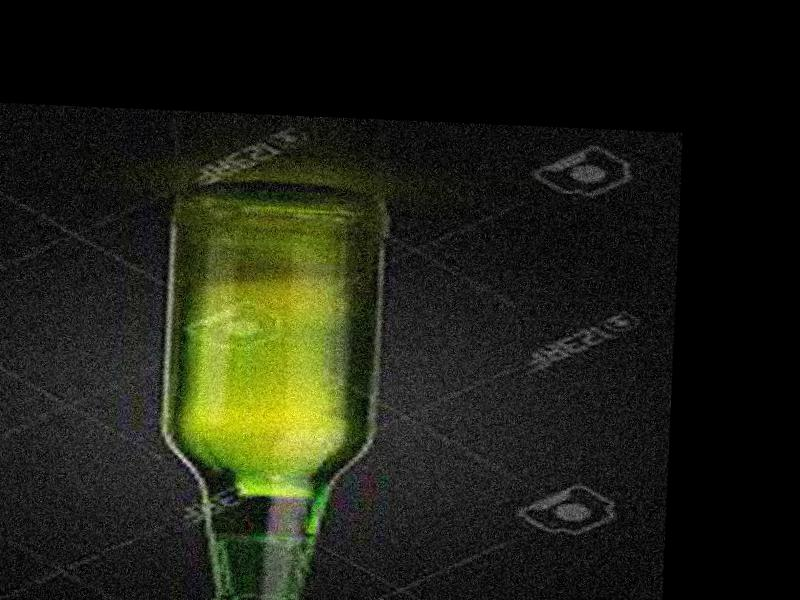Beer: (148, 181, 382, 600)
